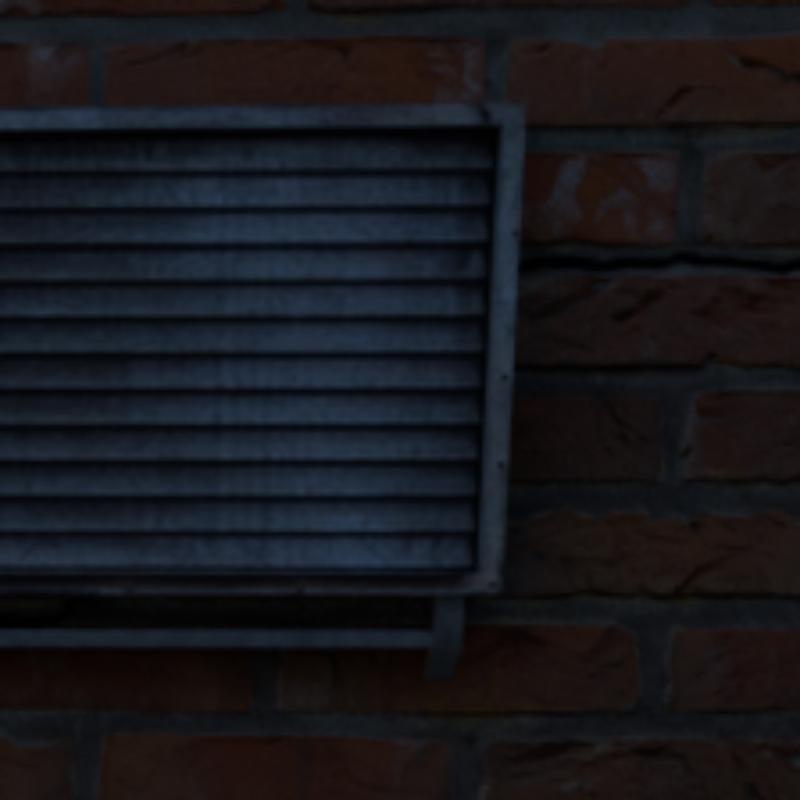crack: (518, 254, 796, 271), (654, 93, 679, 114), (775, 68, 796, 82), (671, 579, 689, 593), (689, 571, 700, 579), (761, 64, 775, 68), (721, 557, 729, 561), (686, 86, 696, 89), (711, 561, 721, 564), (679, 89, 686, 93), (696, 86, 704, 89), (743, 61, 750, 64), (700, 568, 707, 571)
